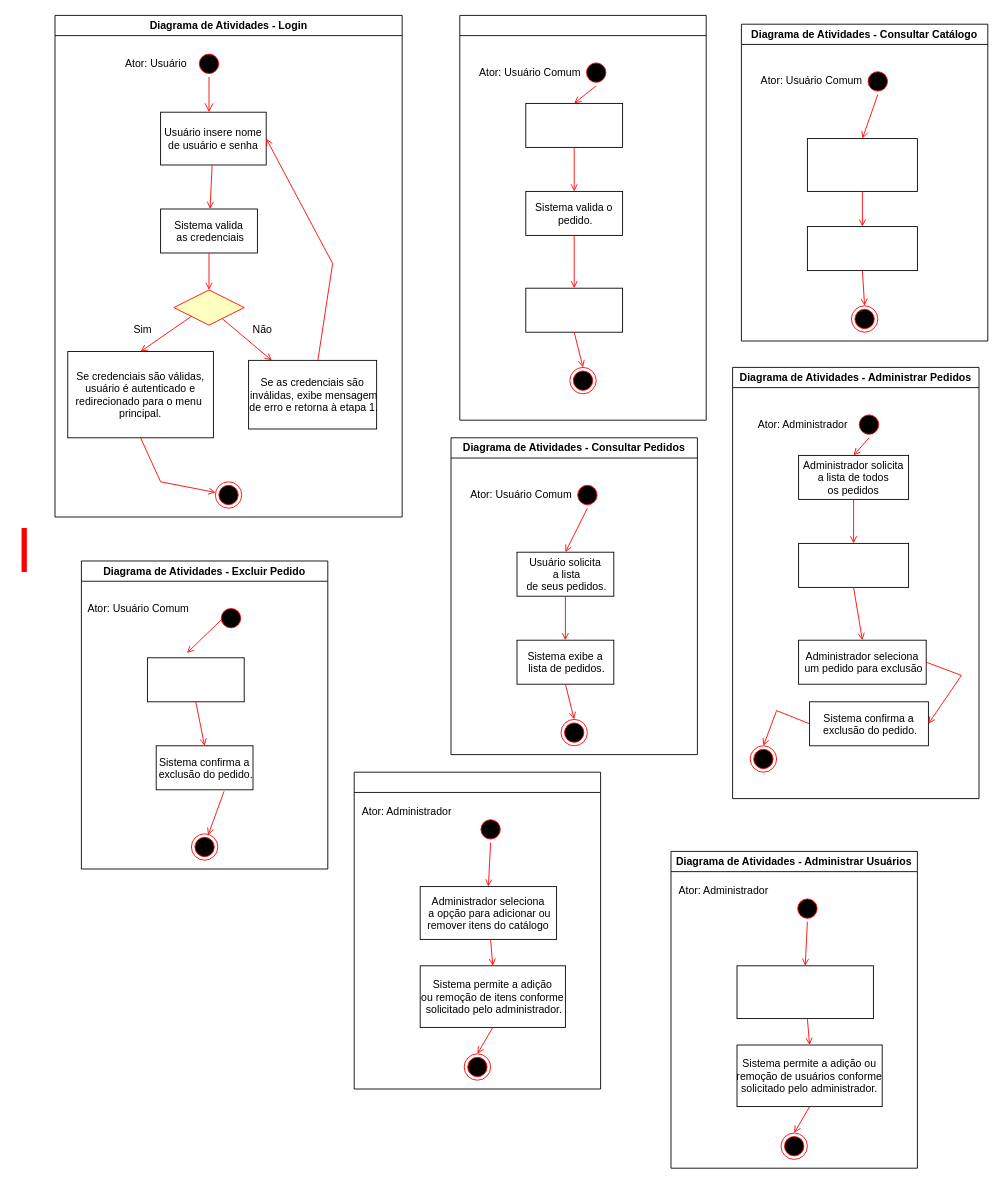
Image size: 1003x1184. Some labels were removed from this diagram. The shapes that lost their labels are listed below. From the top down, each one's box as (x1, y1, x2, y2) in pixels, then its label:
(525, 103, 623, 147): Usuário seleciona itens e fornece detalhes
(807, 138, 917, 191): Usuário solicita o catálogo de produtos.
(459, 15, 706, 420): Diagrama de Atividades - Criar Pedido
(807, 226, 917, 271): Sistema exibe o catálogo de produtos.
(173, 289, 244, 325): Validou
(525, 287, 623, 332): Pedido é registrado no sistema.
(798, 543, 909, 587): Sistema exibe a lista de todos os pedidos
(147, 657, 244, 702): Usuário seleciona o pedido a ser excluido
(353, 771, 601, 1089): Diagrama de Atividades - Administrar Catálogo
(736, 965, 873, 1019): Administrador seleciona a opção para adicionar ou remover usuários.
